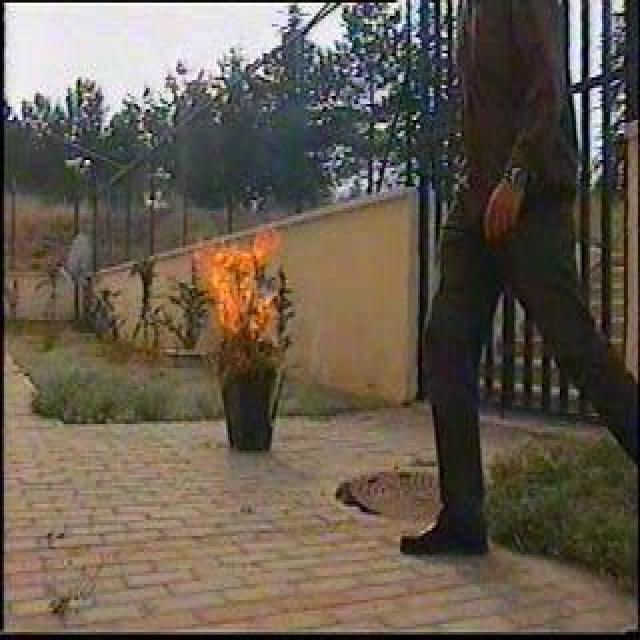Fire: (190, 216, 288, 342)
